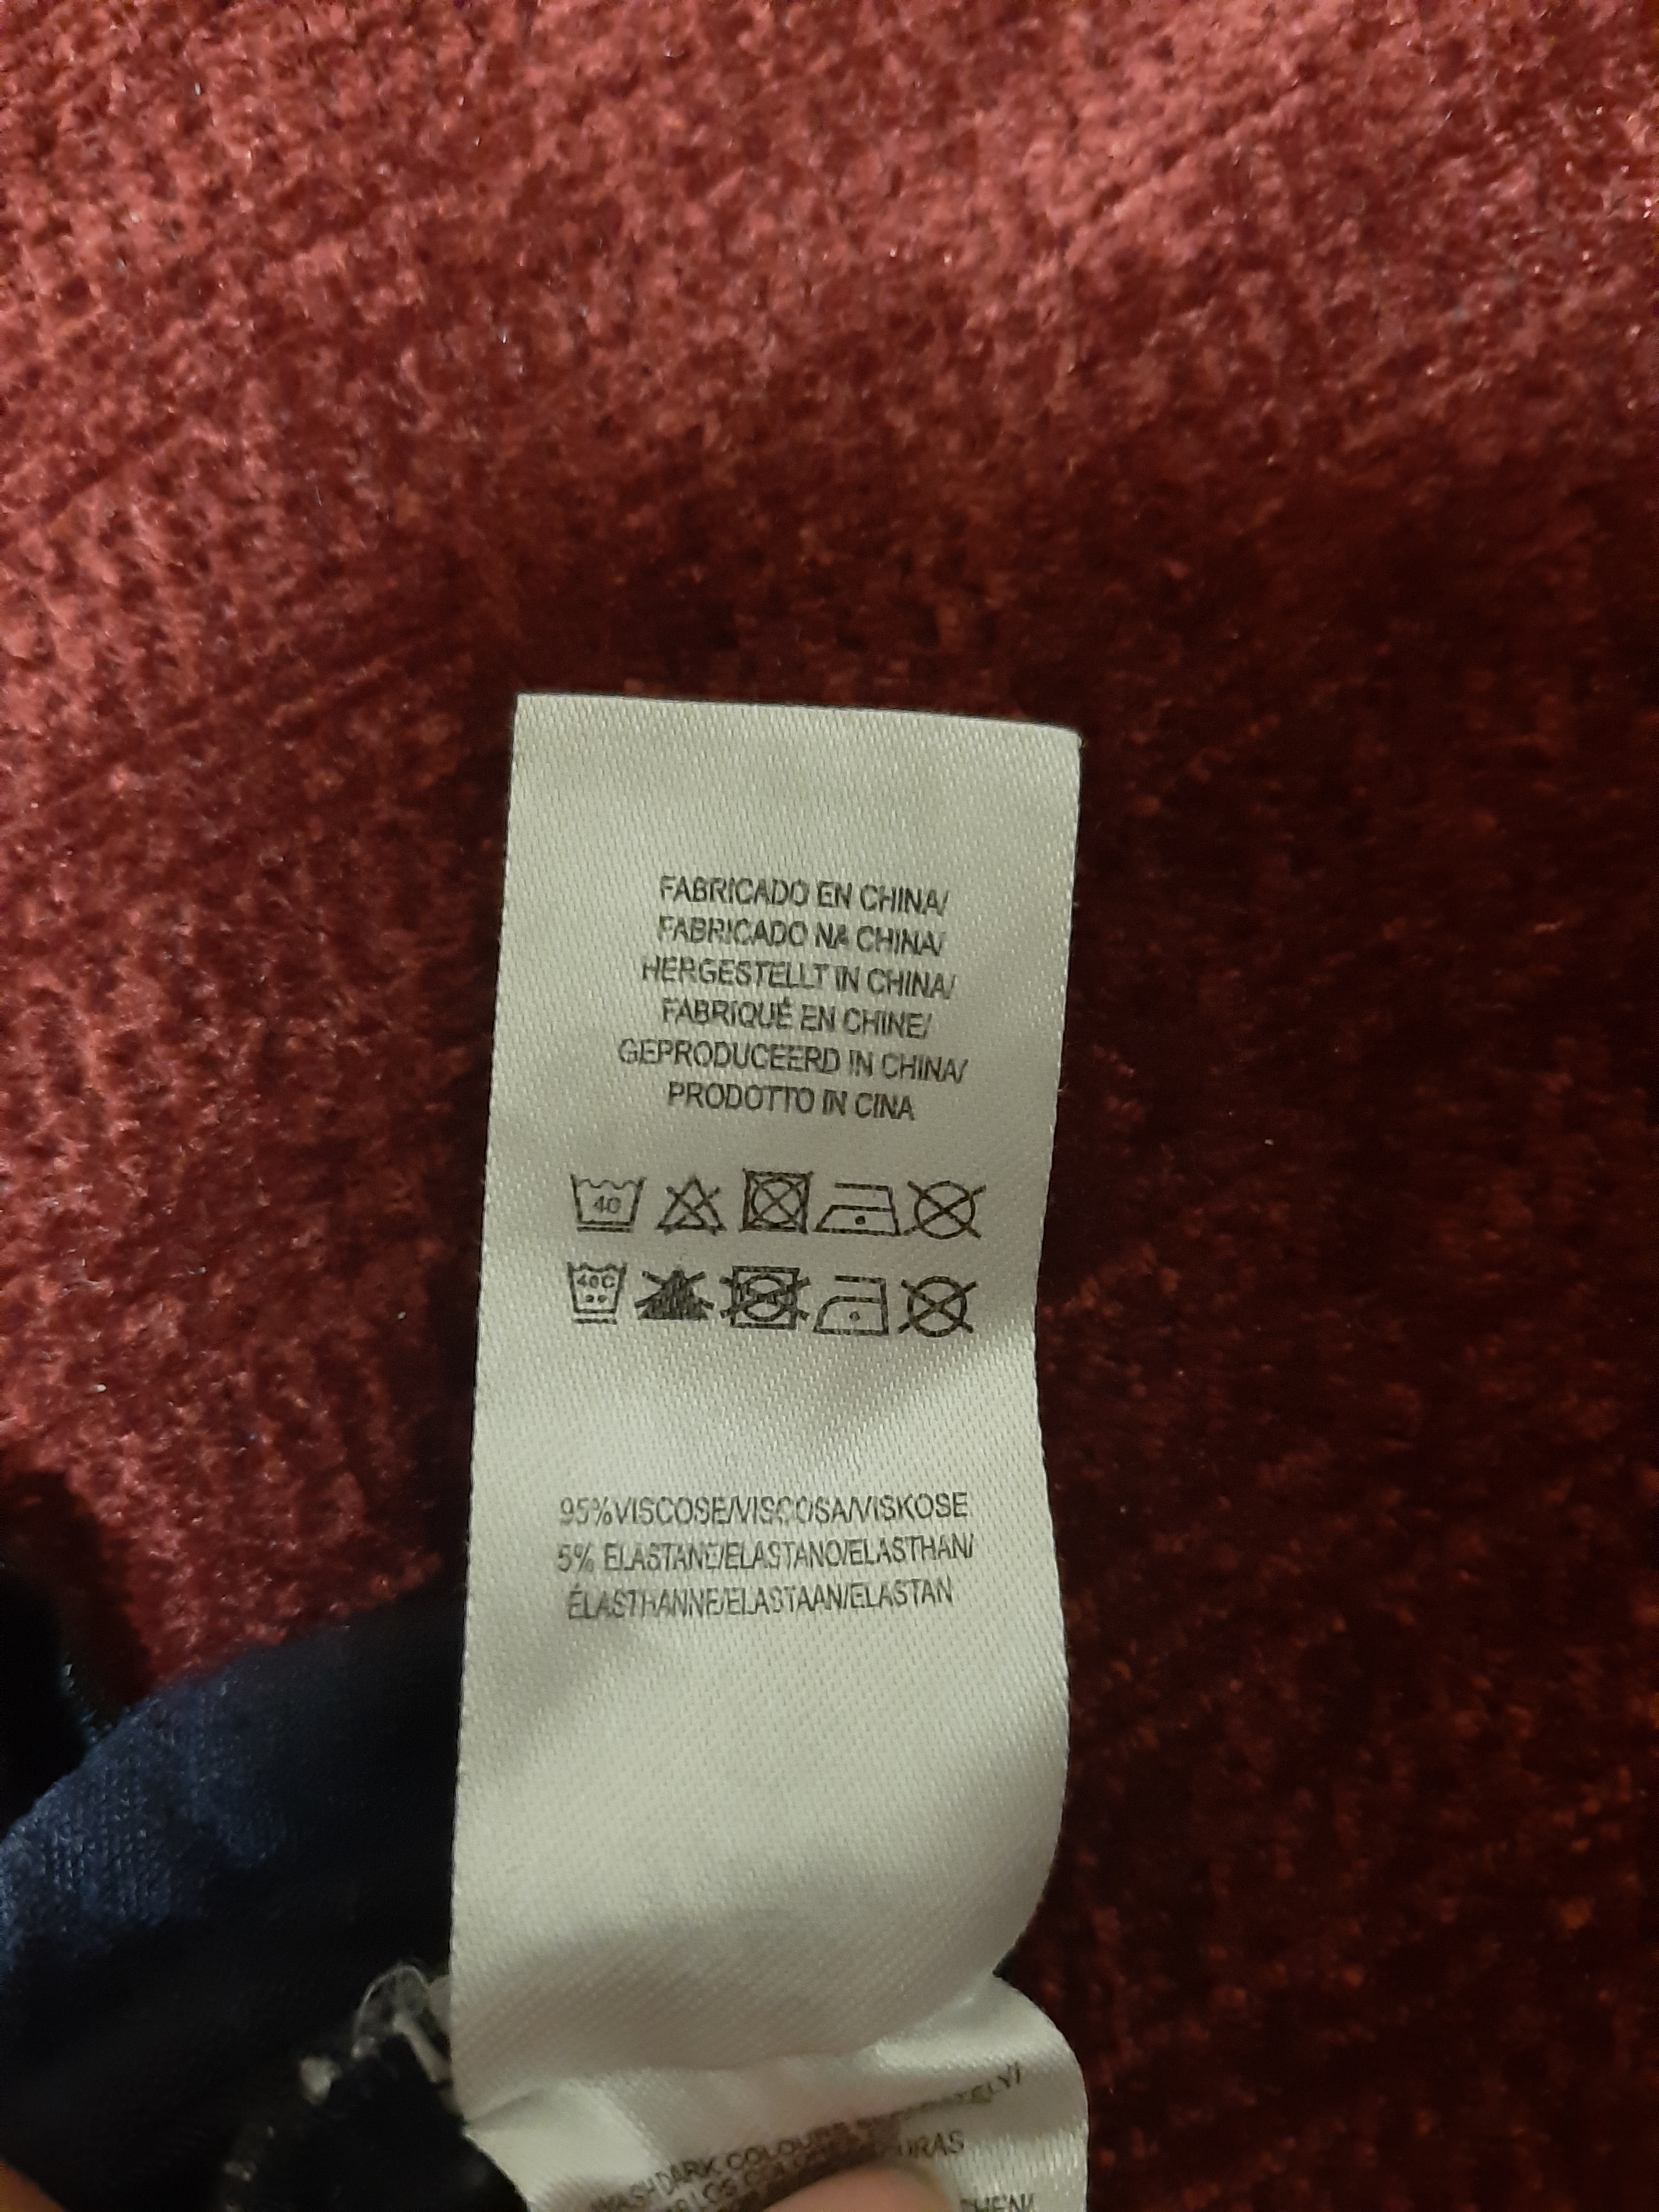do not bleach: (653, 1165, 741, 1249)
do not dry clean: (908, 1162, 999, 1259)
do not tumble dry: (723, 1160, 810, 1259)
iron low temp: (823, 1160, 908, 1259)
wash at or below 40: (556, 1160, 652, 1247)
